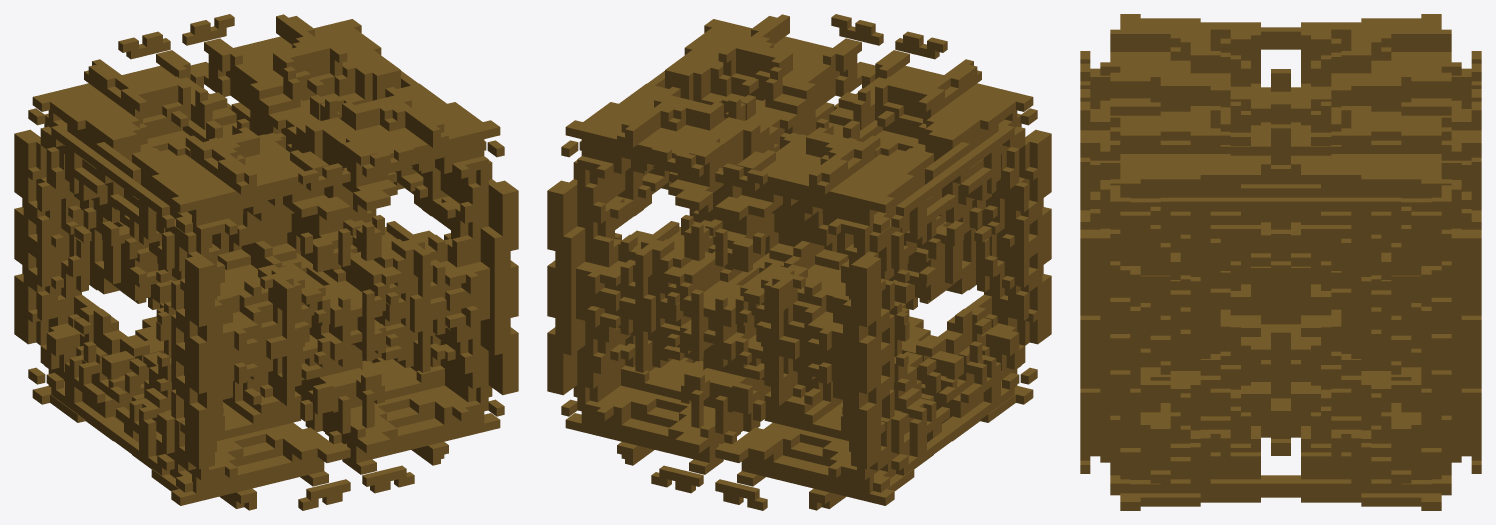
The model's file is 土黄玻璃.obj.
3 renders of one model, left to right at view 1: azimuth 30°, elevation 25°; view 2: azimuth 150°, elevation 25°; view 3: azimuth 270°, elevation 25°, orthographic. The views are drawn at different scales.
Visible parts, largest first — view 1: 土黄玻璃; view 2: 土黄玻璃; view 3: 土黄玻璃.
Boxes of the visible parts, left/top/right/bottom form: 土黄玻璃: left=14, top=14, right=518, bottom=510; 土黄玻璃: left=547, top=14, right=1051, bottom=510; 土黄玻璃: left=1080, top=14, right=1481, bottom=510.
Bounding box in the file's own units: 40 × 40 × 40.
Materials: 1 (1 with a texture image).
